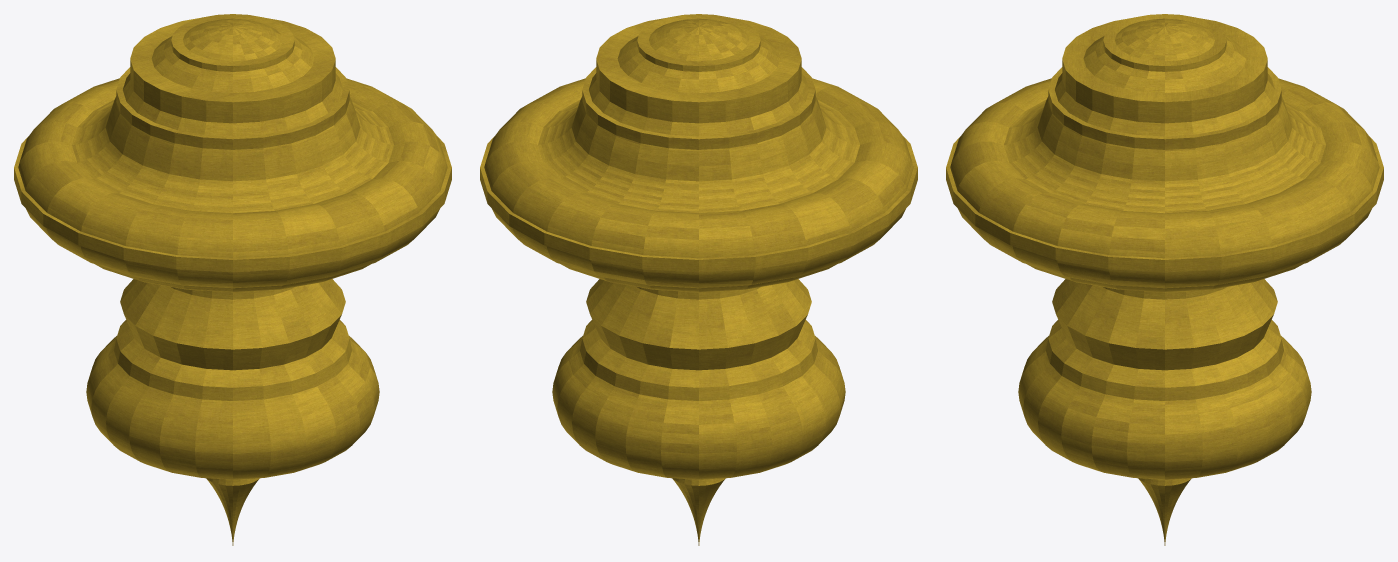
File: building-5b.dae
The picture shows the model from 3 angles, left to right: view 1: azimuth 30°, elevation 25°; view 2: azimuth 150°, elevation 25°; view 3: azimuth 270°, elevation 25°; orthographic projection.
Visible parts, largest first — view 1: group_0 (×7); view 2: group_0 (×7); view 3: group_0 (×7).
Part boxes in pixels (x1,y1,x2,y2): group_0 (×7): [14, 14, 451, 545]; group_0 (×7): [480, 14, 917, 545]; group_0 (×7): [946, 14, 1383, 545].
Size of the model in its own units: 222 by 222 by 292.
Materials: 1 (1 with a texture image).
